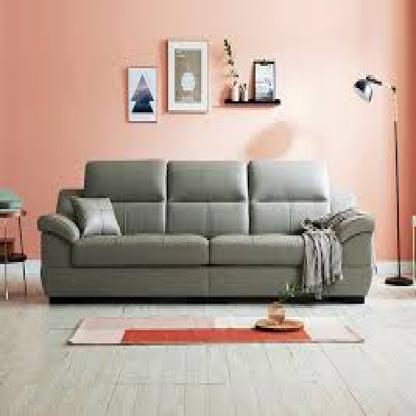sofa: (34, 156, 374, 308)
